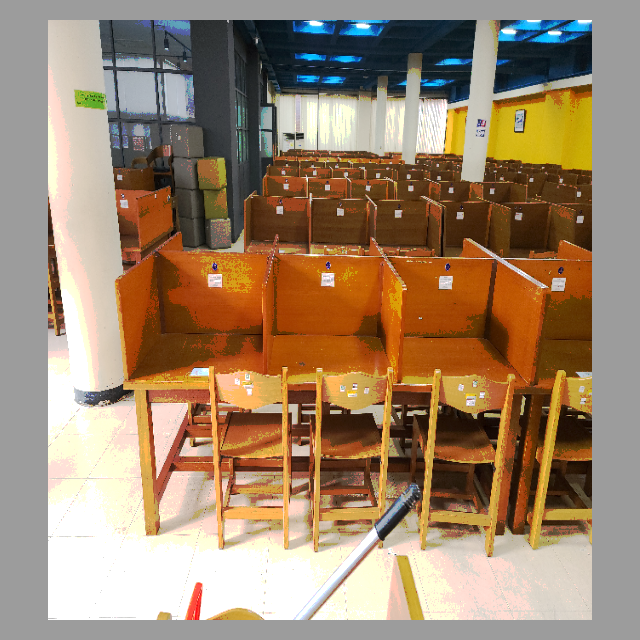empty: (410, 231, 545, 476), (114, 241, 267, 449), (272, 240, 404, 456)
